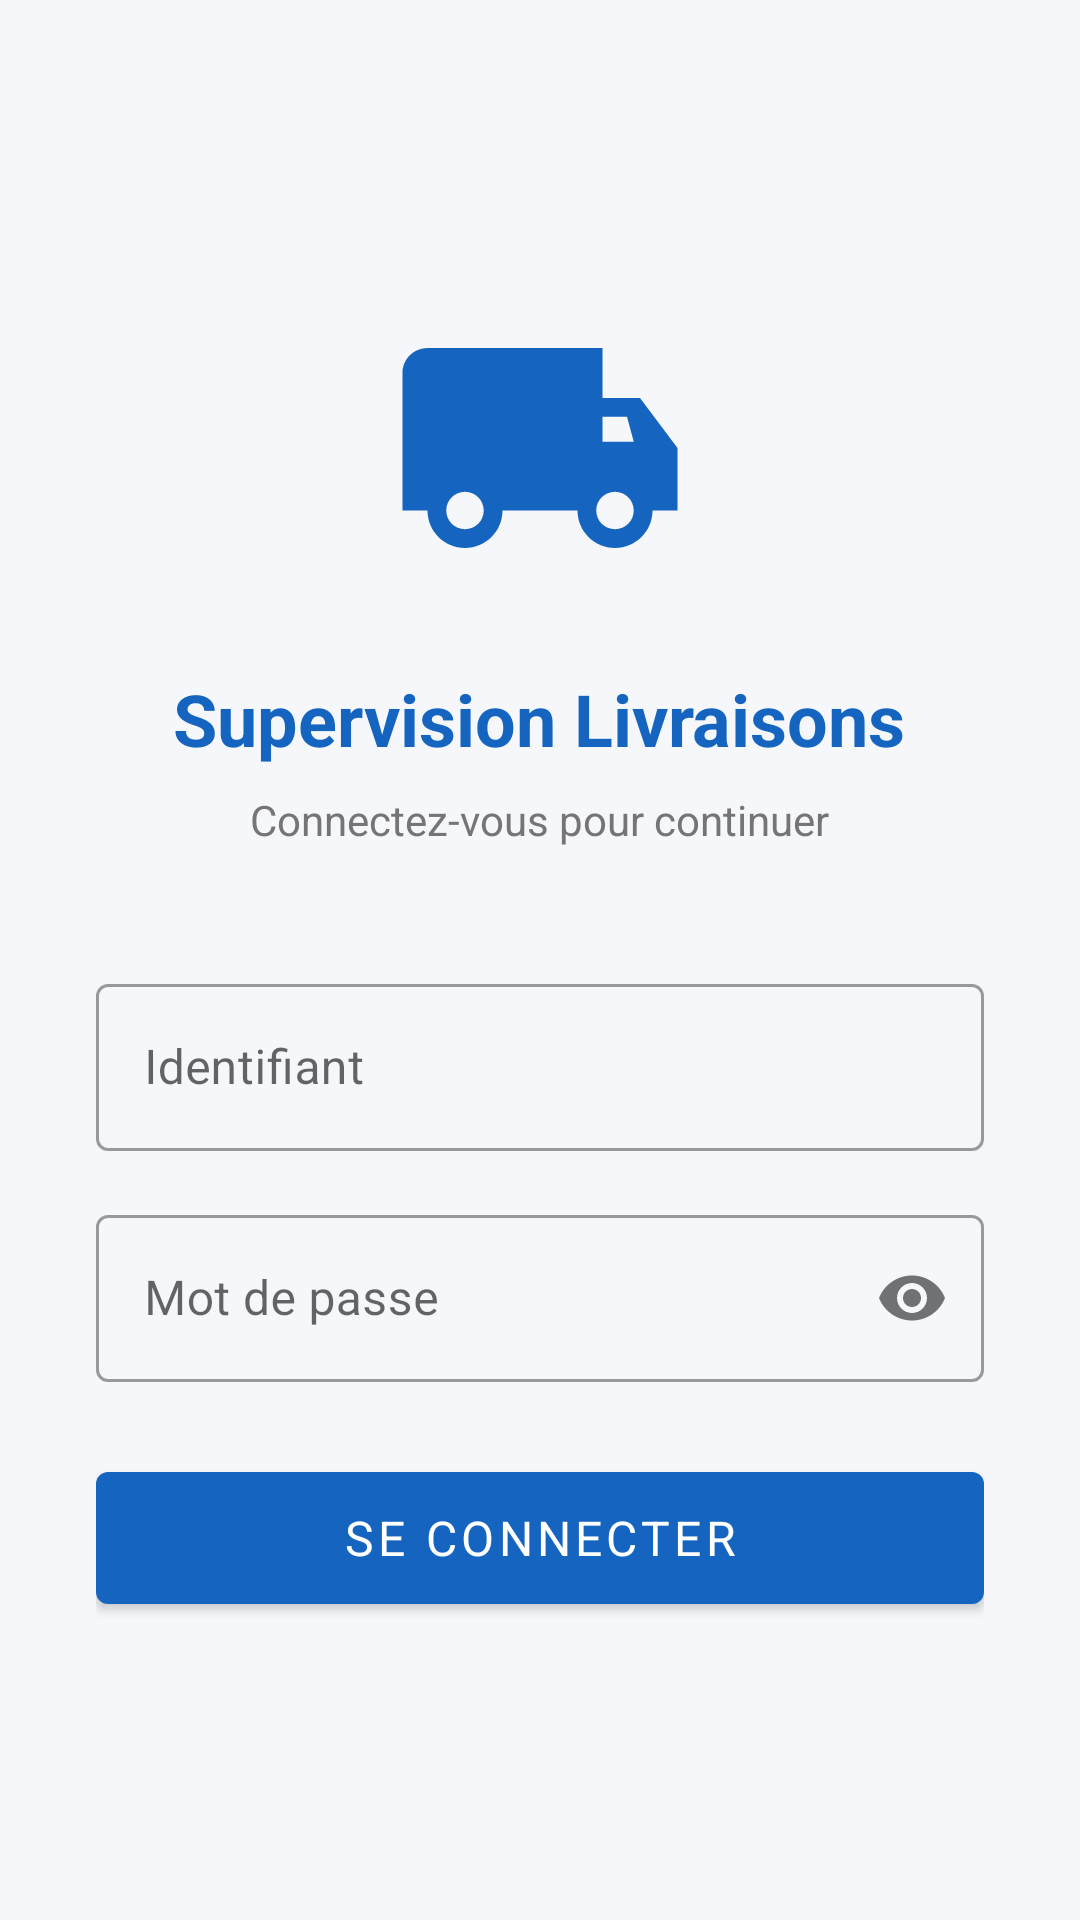

Locate icon controls on the screen. Image size 1080*1920, boxes as (x1, y1, x2, y2).
delivery: (402, 348, 678, 548)
